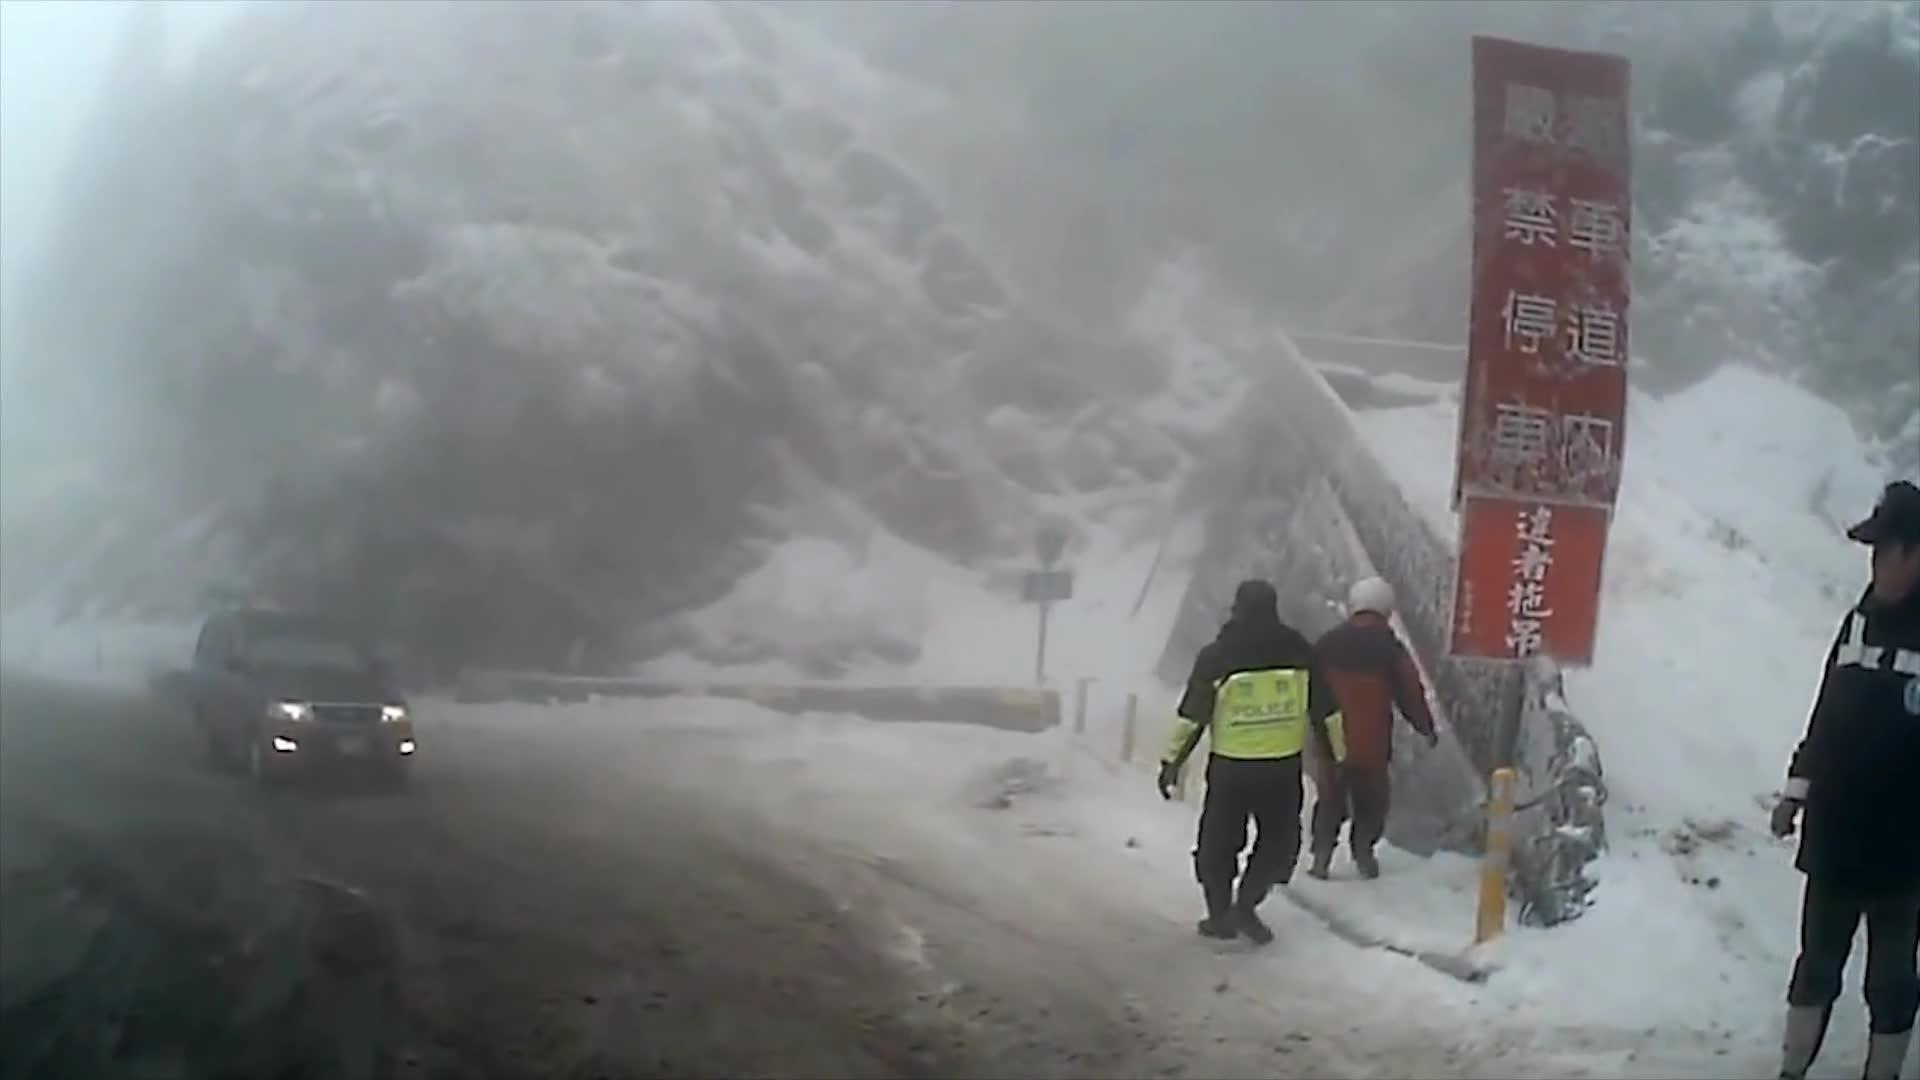pedestrian: (1766, 478, 1920, 1080), (1165, 583, 1363, 952), (1312, 576, 1440, 881)
vehicle: (186, 606, 419, 793)
